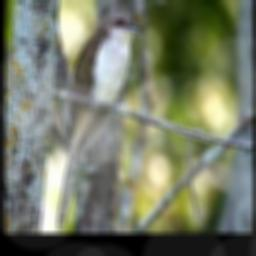Cuckoo: (57, 11, 144, 230)
